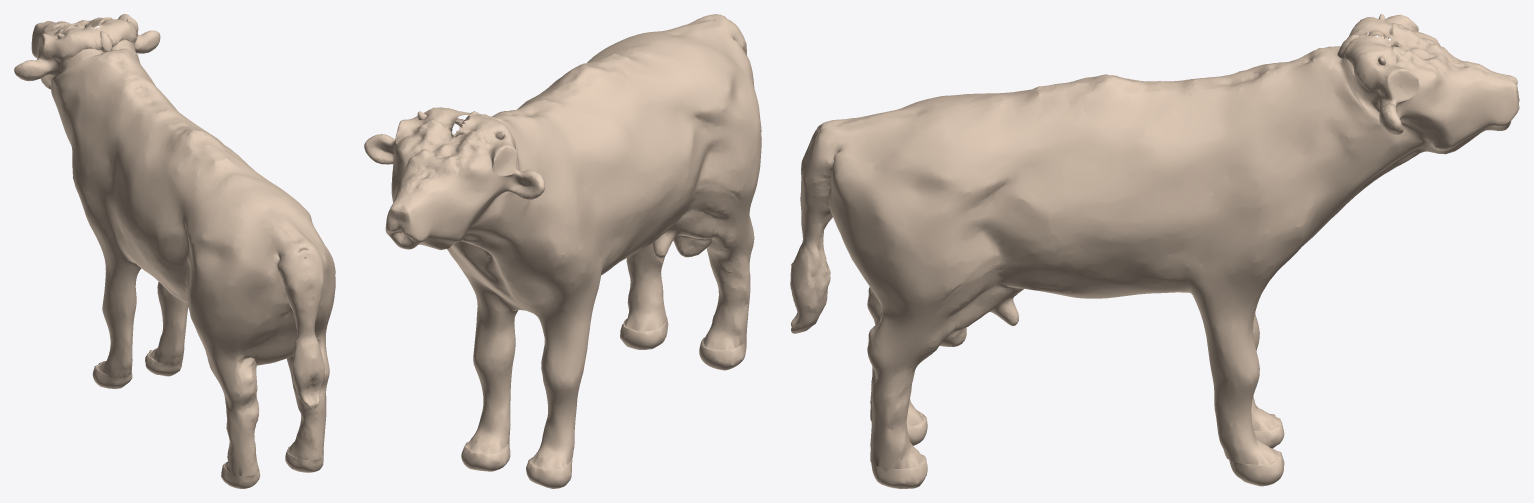
The model's file is integumentary.glb.
The picture shows the model from 3 angles, left to right: view 1: azimuth 30°, elevation 25°; view 2: azimuth 150°, elevation 25°; view 3: azimuth 270°, elevation 25°; orthographic projection. The views are drawn at different scales.
Parts seen in each view (by area): view 1: cow_integumentary_skin, cow_integumentary_hooves_L, cow_integumentary_hooves_R; view 2: cow_integumentary_skin, cow_integumentary_hooves_R, cow_integumentary_hooves_L, cow_integumentary_udder; view 3: cow_integumentary_skin, cow_integumentary_hooves_R, cow_integumentary_udder, cow_integumentary_hooves_L.
Part boxes in pixels (bbox=[...]): cow_integumentary_skin: bbox=[14, 14, 335, 476]; cow_integumentary_hooves_L: bbox=[92, 361, 260, 488]; cow_integumentary_hooves_R: bbox=[145, 350, 323, 472]; cow_integumentary_skin: bbox=[364, 14, 761, 469]; cow_integumentary_hooves_R: bbox=[461, 317, 668, 471]; cow_integumentary_hooves_L: bbox=[526, 337, 746, 488]; cow_integumentary_udder: bbox=[652, 208, 694, 258]; cow_integumentary_skin: bbox=[790, 14, 1519, 469]; cow_integumentary_hooves_R: bbox=[871, 448, 1284, 488]; cow_integumentary_udder: bbox=[984, 282, 1023, 326]; cow_integumentary_hooves_L: bbox=[871, 411, 1284, 448].
Bounding box in the file's own units: 0.5032 × 1.07 × 1.64.
